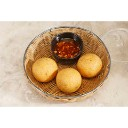bonda: (32, 56, 58, 81), (58, 68, 82, 91), (78, 53, 103, 75)
